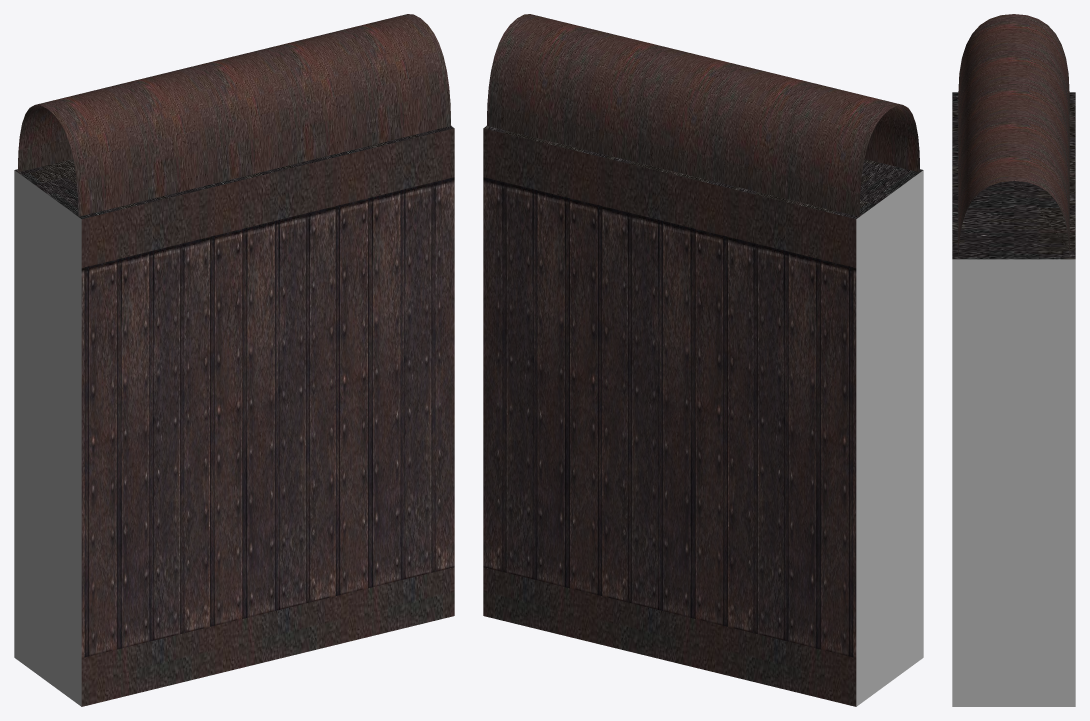
File: 14gate-segment.obj
The picture shows the model from 3 angles, left to right: view 1: azimuth 30°, elevation 25°; view 2: azimuth 150°, elevation 25°; view 3: azimuth 270°, elevation 25°; orthographic projection. The views are drawn at different scales.
Visible parts, largest first — view 1: entity0_brush2, entity0_patch0, entity0_brush1, entity0_brush3; view 2: entity0_brush2, entity0_patch0, entity0_brush1, entity0_brush3; view 3: entity0_brush2, entity0_patch0, entity0_brush1, entity0_brush3.
Part boxes in pixels (left/top/right/bottom): entity0_brush2: left=14, top=177, right=454, bottom=657; entity0_patch0: left=17, top=14, right=451, bottom=216; entity0_brush1: left=14, top=126, right=454, bottom=267; entity0_brush3: left=14, top=567, right=454, bottom=706; entity0_brush2: left=483, top=177, right=923, bottom=657; entity0_patch0: left=486, top=14, right=920, bottom=216; entity0_brush1: left=483, top=126, right=923, bottom=267; entity0_brush3: left=483, top=567, right=923, bottom=706; entity0_brush2: left=952, top=304, right=1075, bottom=662; entity0_patch0: left=958, top=14, right=1069, bottom=257; entity0_brush1: left=952, top=92, right=1075, bottom=303; entity0_brush3: left=952, top=662, right=1075, bottom=706.
Size of the model in its own units: 128 by 188 by 40.
